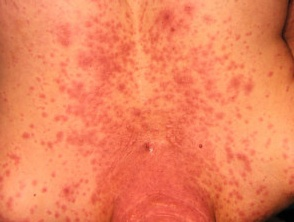SJS-TEN: (2, 0, 270, 221)
